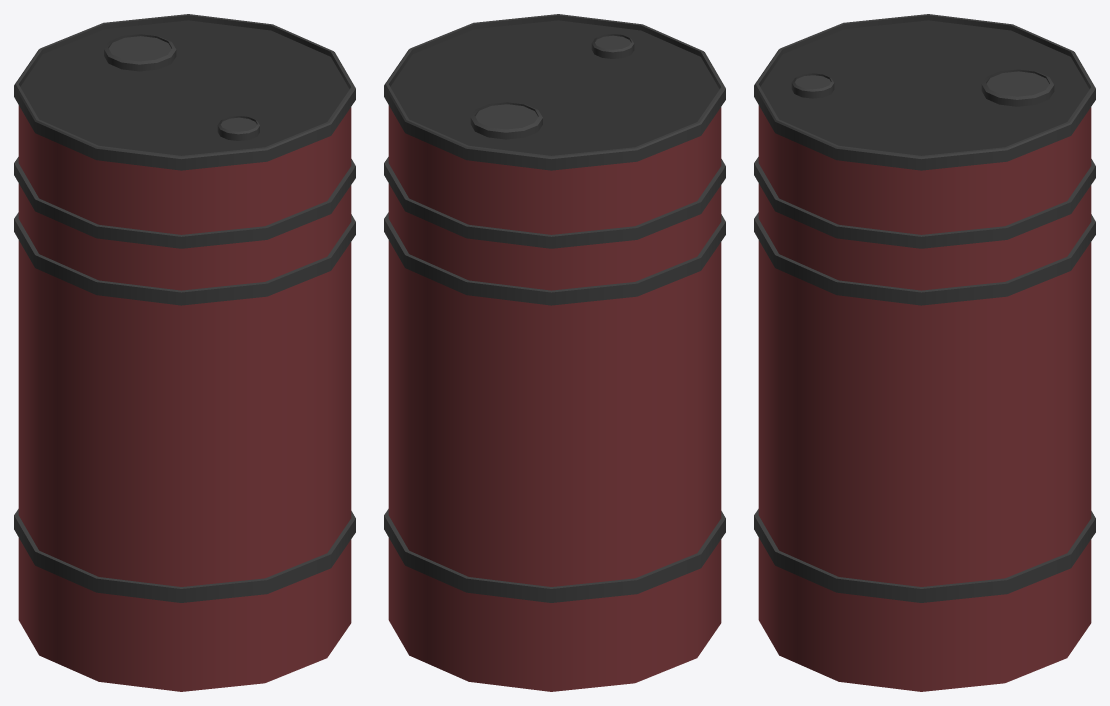
Rendered from props_23.glb.
3 renders of one model, left to right at view 1: azimuth 30°, elevation 25°; view 2: azimuth 150°, elevation 25°; view 3: azimuth 270°, elevation 25°, orthographic.
Visible parts, largest first — view 1: props_23; view 2: props_23; view 3: props_23.
Boxes of the visible parts, <box> form: props_23: <box>14,14,355,691</box>; props_23: <box>384,14,725,691</box>; props_23: <box>754,14,1095,691</box>.
Bounding box in the file's own units: 0.8342 × 1.45 × 0.8342.
Materials: 1 (1 with a texture image).
